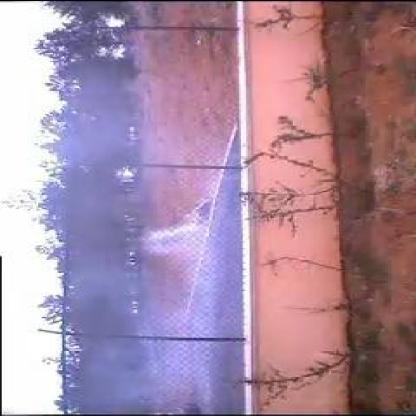-: (68, 160, 246, 333)
